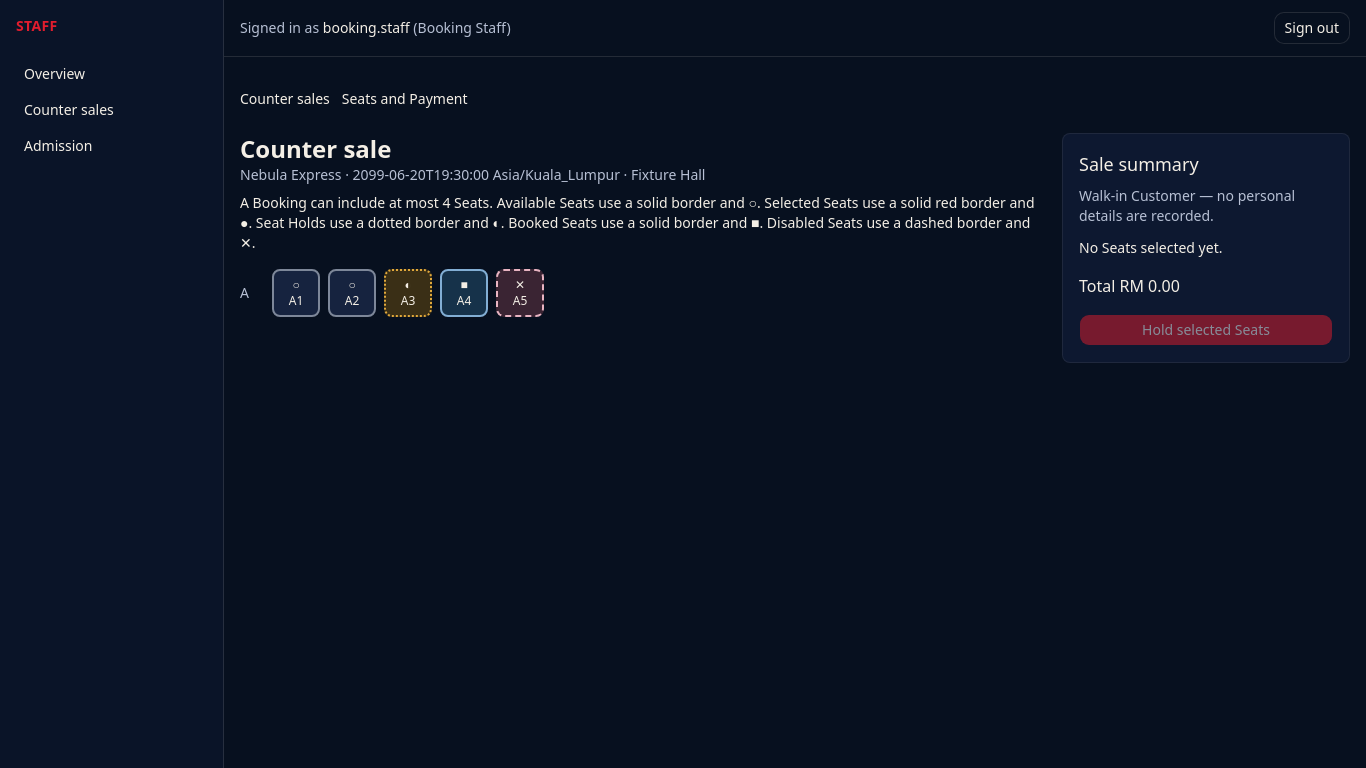
Test case: CounterSalePage › explains when the Counter Sales Cutoff has passed
Click the button named "Seat A1, available": click(296, 293) [272,269,320,317]
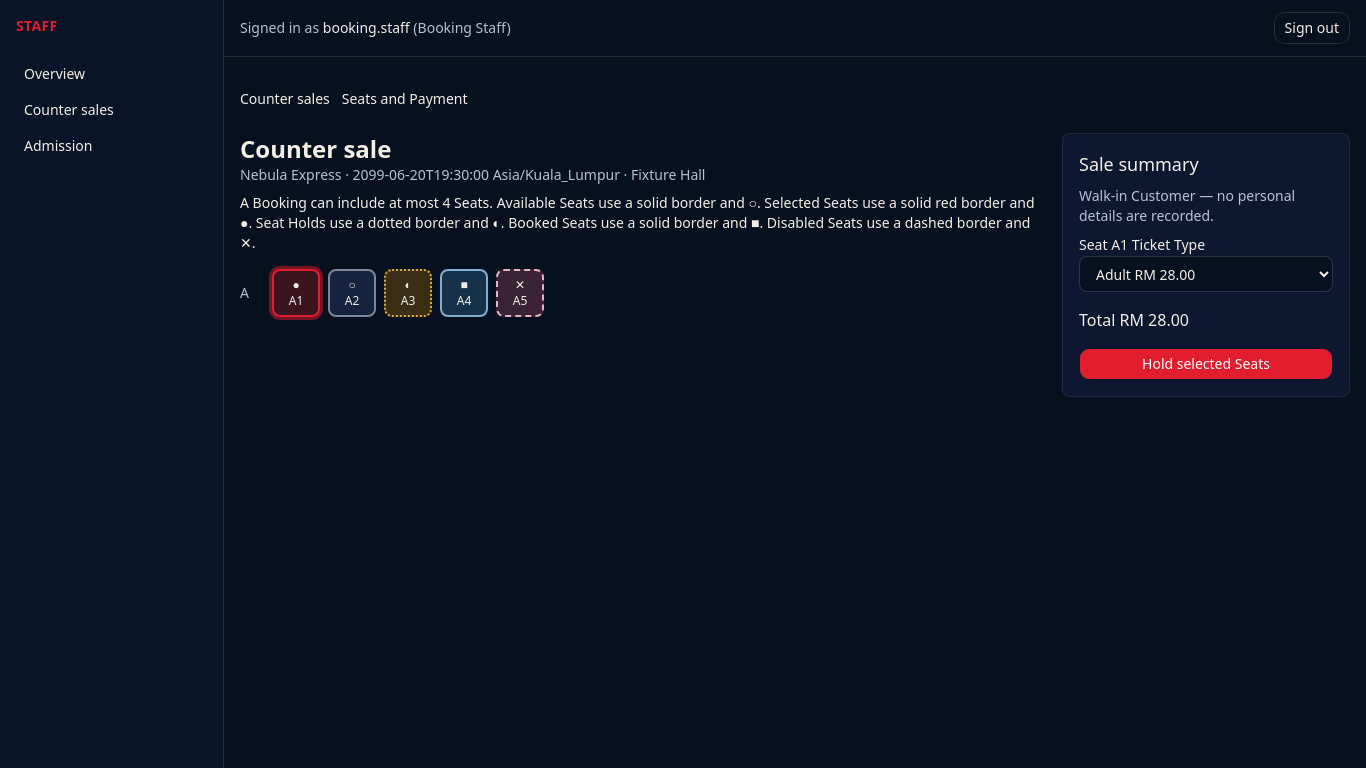
Click the button "Hold selected Seats": click(1206, 364) [1079,348,1333,380]
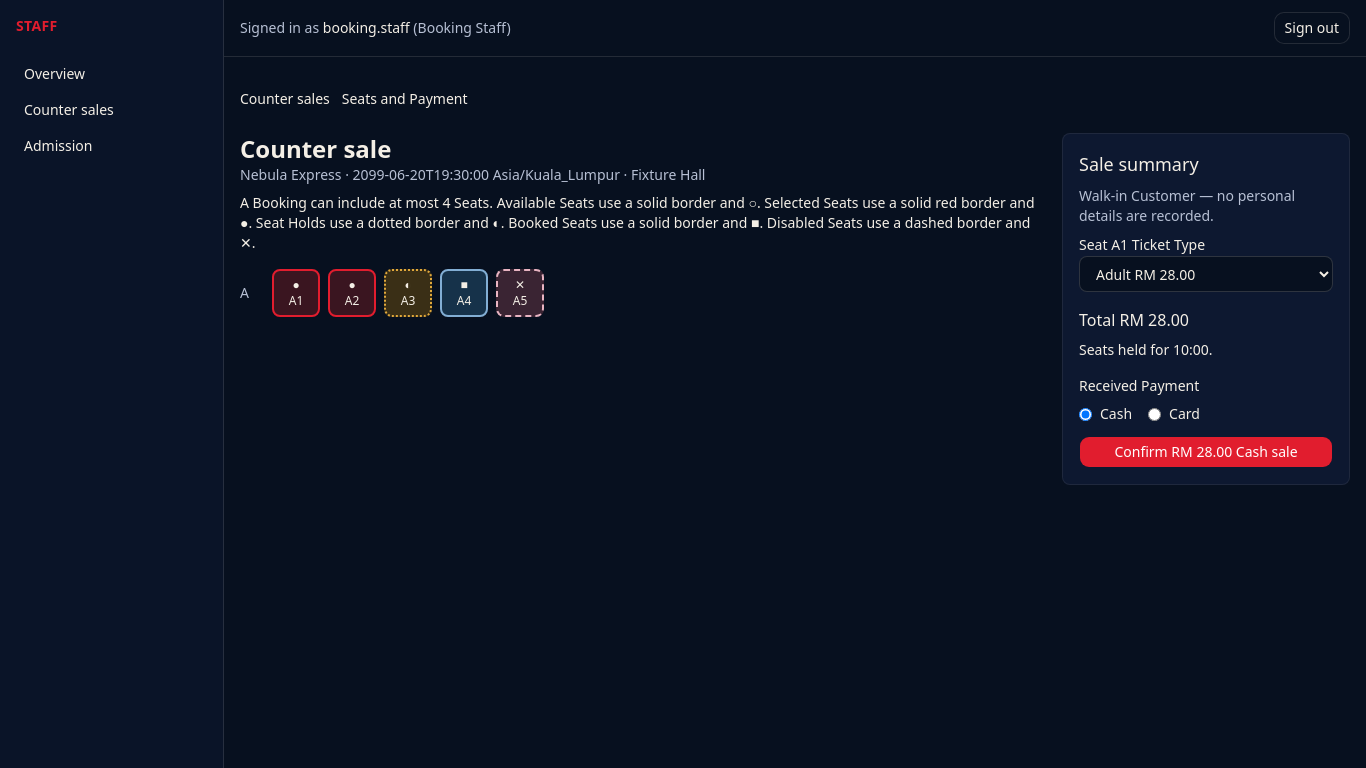
Click the button "Confirm RM 28.00 Cash sale": click(1206, 452) [1079,436,1333,468]
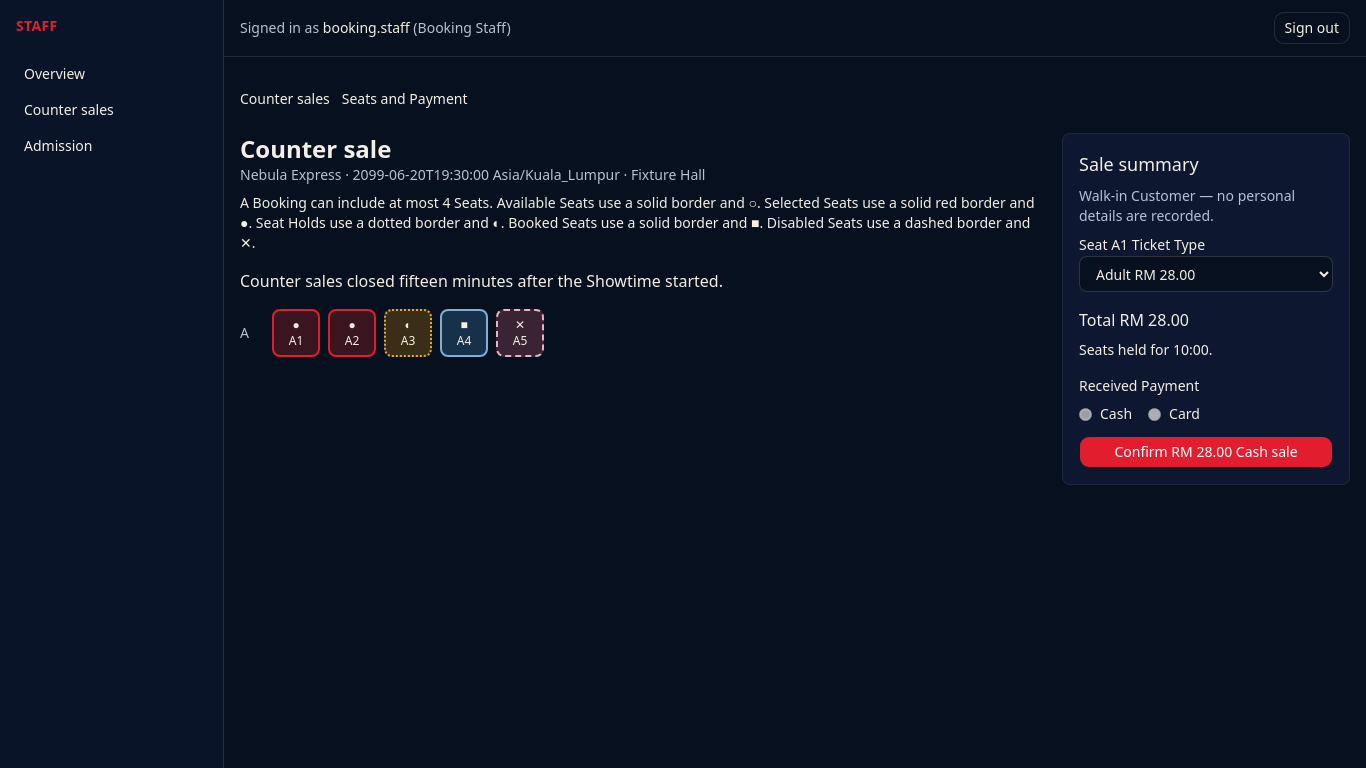
Now the message "Counter sales closed fifteen minutes after the Showtime started." is shown, box [240,270,723,292]
